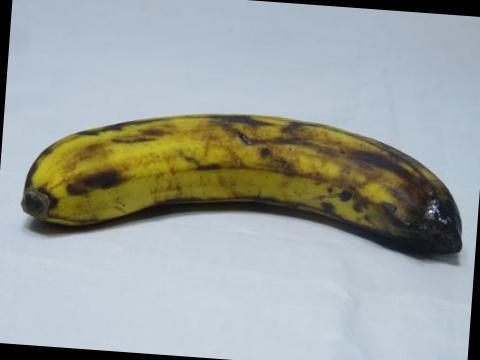overripe: (24, 92, 479, 283)
rotten: (350, 155, 475, 276)
